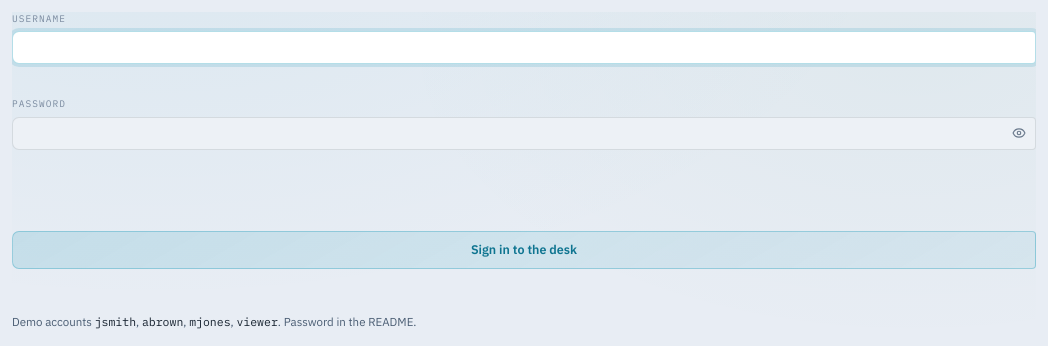
Test: LoginForm › says the address limit lifts shortly when the API gives no wait, without holding Sign in
The width and height of the screenshot is (1048, 346).
Type "jsmith" into the field labelled "Username" at (524,48), box [12, 31, 1036, 64]
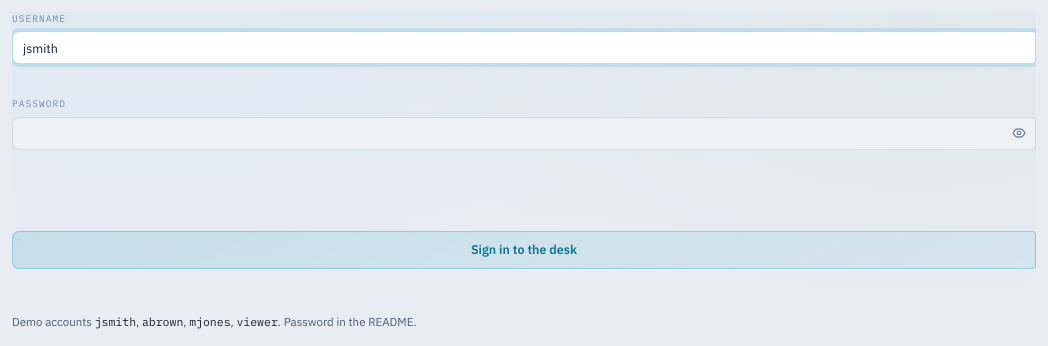
Type "not-the-password" into the password field labelled "Password" at (524,133), box [12, 116, 1036, 150]
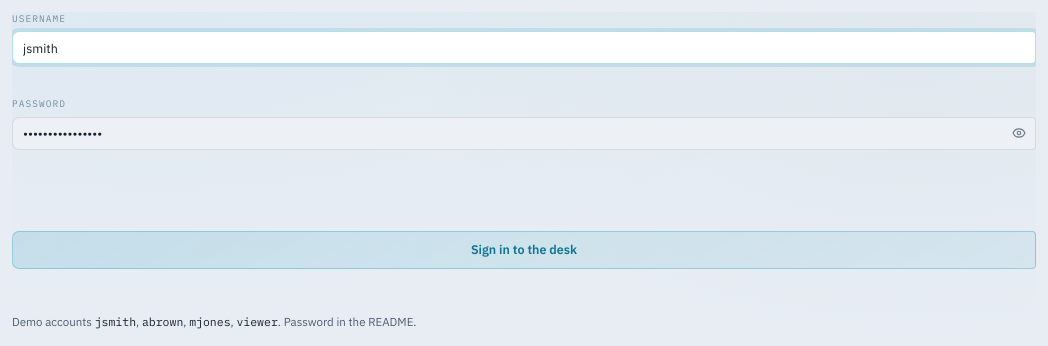
Click the button "Sign in to the desk" at (524,250), box [12, 230, 1036, 268]
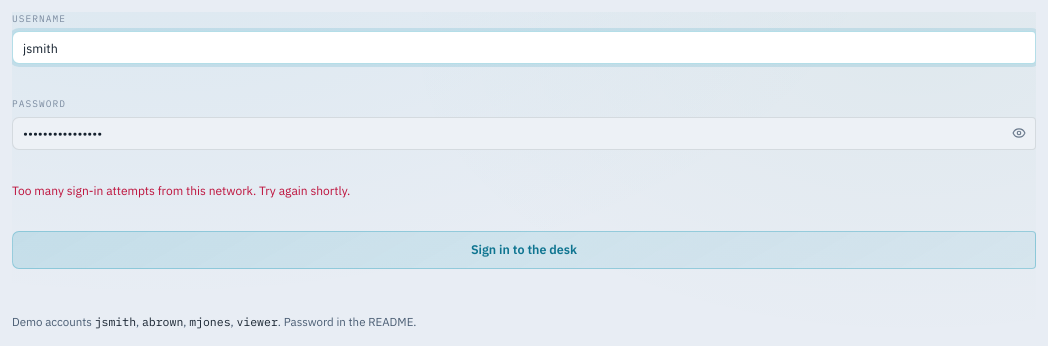
Result: the message "Too many sign-in attempts from this network. Try again shortly." is shown at [12, 182, 350, 198]
